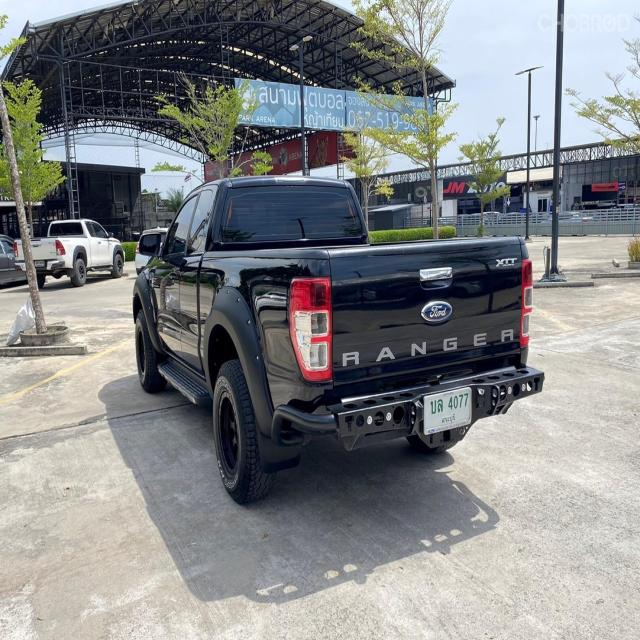license_plate: (422, 386, 475, 437)
